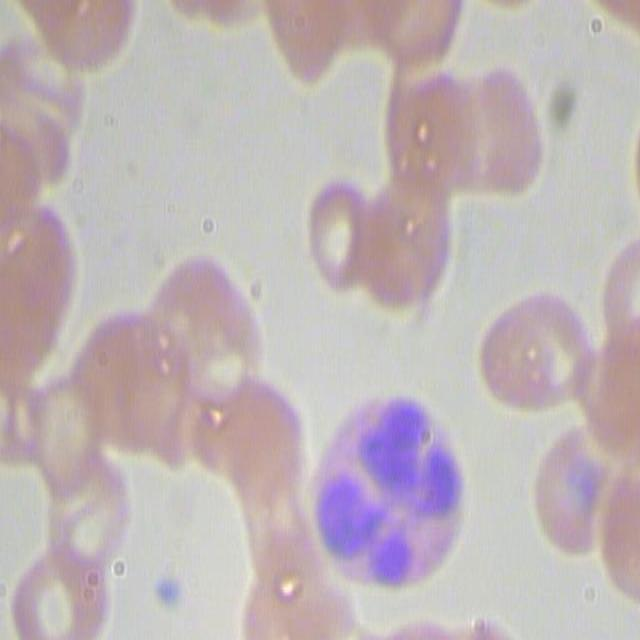RBC: (381, 9, 543, 208), (149, 244, 269, 423), (78, 314, 211, 474), (191, 369, 314, 504), (344, 172, 454, 316), (478, 289, 598, 419), (246, 491, 335, 628), (530, 426, 619, 556), (35, 448, 130, 568), (15, 0, 138, 79), (8, 544, 109, 638), (300, 178, 376, 294), (590, 447, 640, 599), (265, 0, 354, 81), (601, 227, 640, 360)
WBC: (303, 398, 466, 596)
